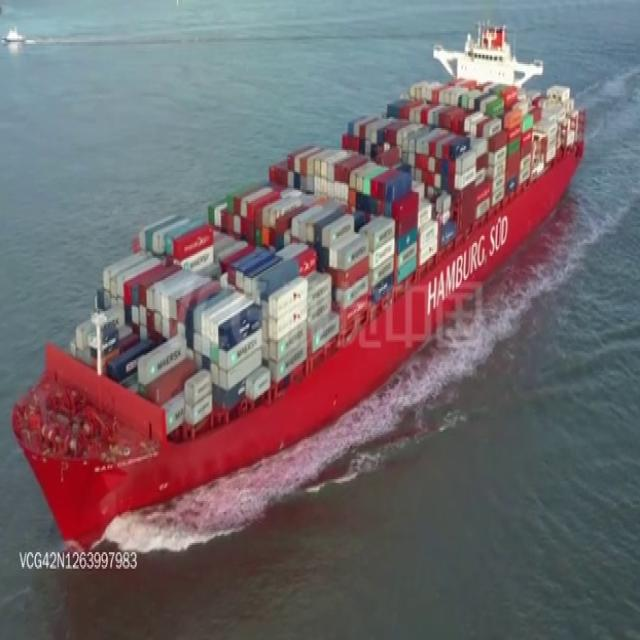cargoship: (16, 15, 592, 532)
